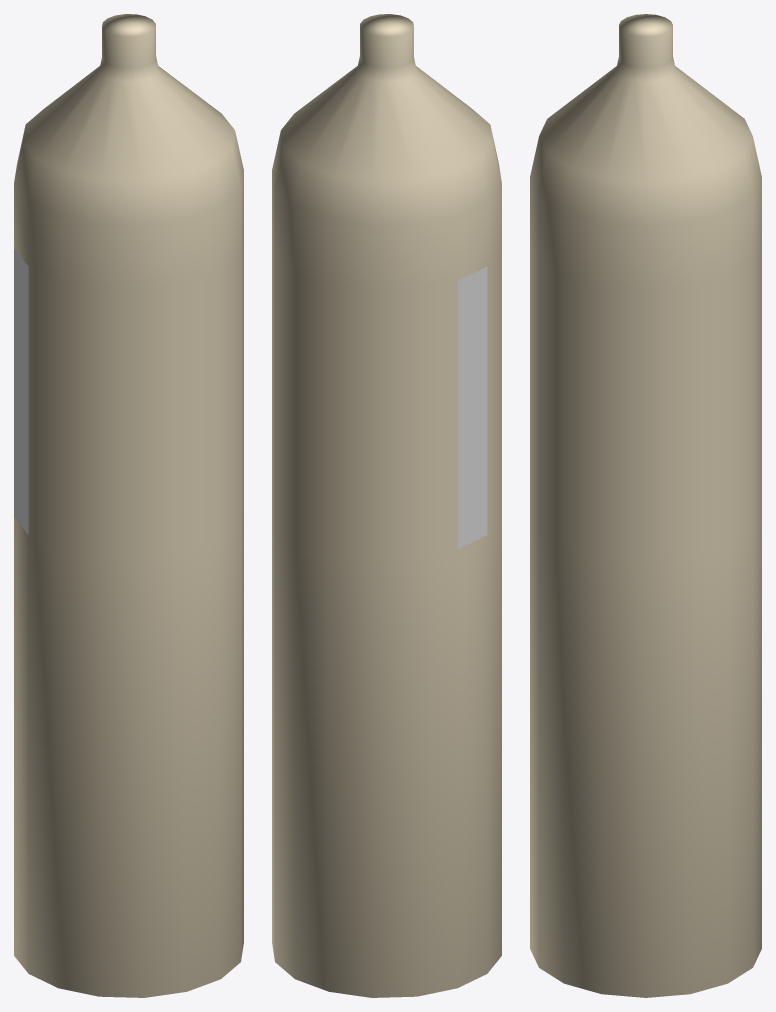
The model's file is gas_cylinder.fbx.
3 renders of one model, left to right at view 1: azimuth 30°, elevation 25°; view 2: azimuth 150°, elevation 25°; view 3: azimuth 270°, elevation 25°, orthographic.
Visible parts, largest first — view 1: gas_cylinder; view 2: gas_cylinder; view 3: gas_cylinder.
Boxes of the visible parts, <box> form: gas_cylinder: <box>14,14,243,997</box>; gas_cylinder: <box>272,14,501,997</box>; gas_cylinder: <box>530,14,761,997</box>.
Bounding box in the file's own units: 25 × 110 × 25.
